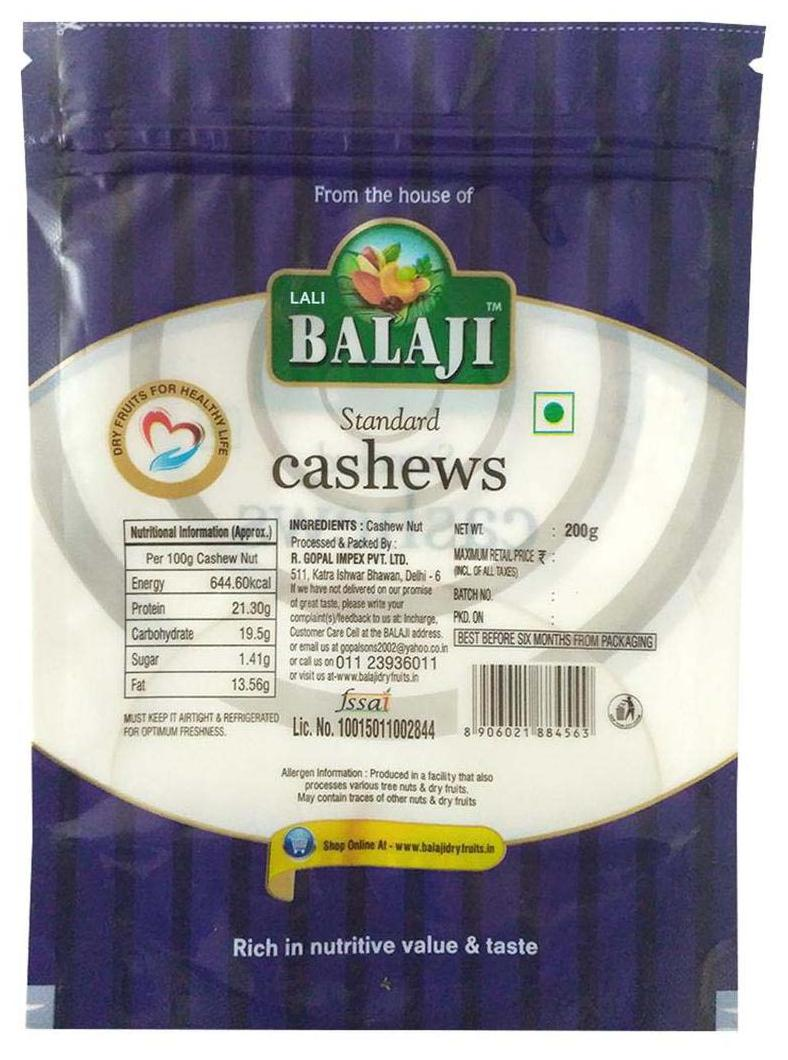fssai: (335, 687, 393, 711)
